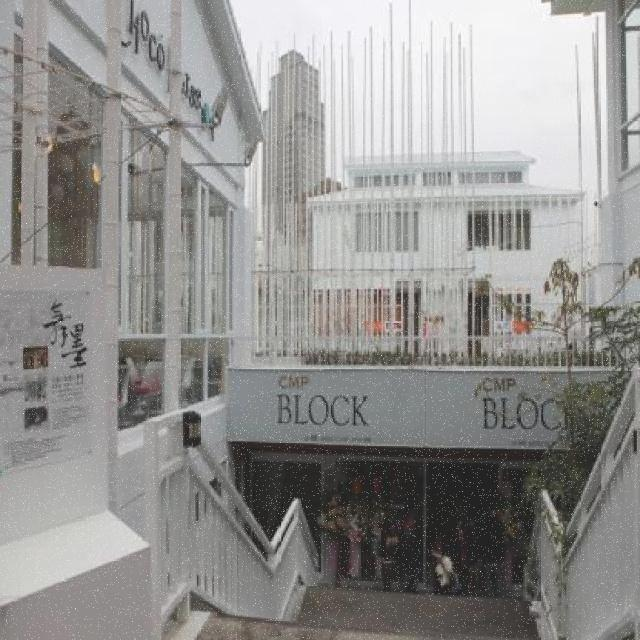stair: (192, 580, 546, 640)
